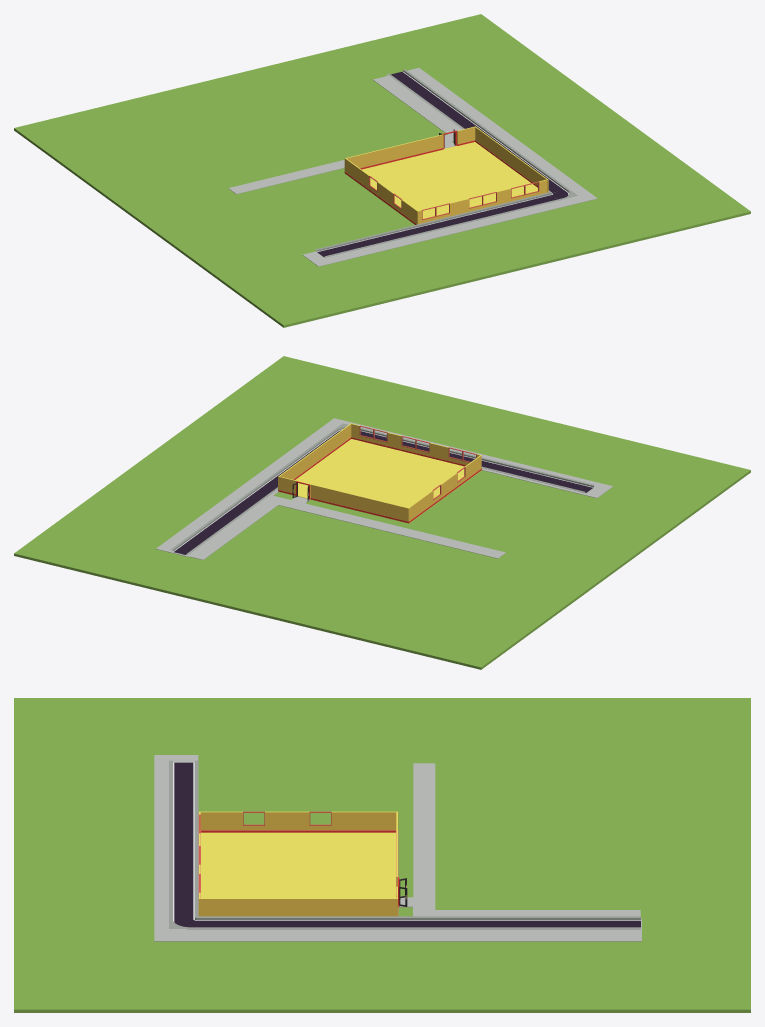
File: Ground_pos.fbx
3 views of the same model, one above another, from view 1: azimuth 30°, elevation 25°; view 2: azimuth 150°, elevation 25°; view 3: azimuth 270°, elevation 25° (orthographic). The views are drawn at different scales.
Parts seen in each view (by area): view 1: Ground4, Store_Floor1, Road_Plane2, Sidewalk07, Sidewalk08, Road_Plane1, Wall3, Wall2, Sidewalk06, Sidewalk05; view 2: Ground4, Store_Floor1, Sidewalk07, Road_Plane1, Road_Plane2, Sidewalk05, Wall3, Sidewalk08, Sidewalk06, Wall2; view 3: Ground4, Store_Floor1, Sidewalk07, Road_Plane1, Road_Plane2, Wall2, Sidewalk08, Sidewalk05, Wall4, Sidewalk06, Wall5, Wall6.
Boxes of the visible parts, x1,y1,x2,y2 form: Ground4: (14,14,750,327); Store_Floor1: (344,142,537,224); Road_Plane2: (315,192,558,257); Sidewalk07: (386,68,596,206); Sidewalk08: (303,186,597,266); Road_Plane1: (387,69,566,192); Wall3: (344,134,443,171); Wall2: (475,126,548,192); Sidewalk06: (373,76,459,134); Sidewalk05: (228,160,344,194); Ground4: (14,356,750,669); Store_Floor1: (279,439,481,523); Sidewalk07: (156,418,366,557); Road_Plane1: (170,431,335,555); Road_Plane2: (360,428,594,493); Sidewalk05: (302,504,505,558); Wall3: (310,484,409,522); Sidewalk08: (318,418,612,498); Sidewalk06: (189,501,278,559); Wall2: (278,423,351,491); Ground4: (14,698,750,1012); Store_Floor1: (201,832,396,898); Sidewalk07: (155,918,641,941); Road_Plane1: (198,916,640,929); Road_Plane2: (169,760,198,918); Wall2: (198,898,397,916); Sidewalk08: (154,755,198,941); Sidewalk05: (413,763,435,894); Wall4: (331,811,398,832); Sidewalk06: (434,910,640,916); Wall5: (265,811,309,832); Wall6: (198,811,242,832).
Bounding box in the file's own units: 100 × 3.61 × 100.
